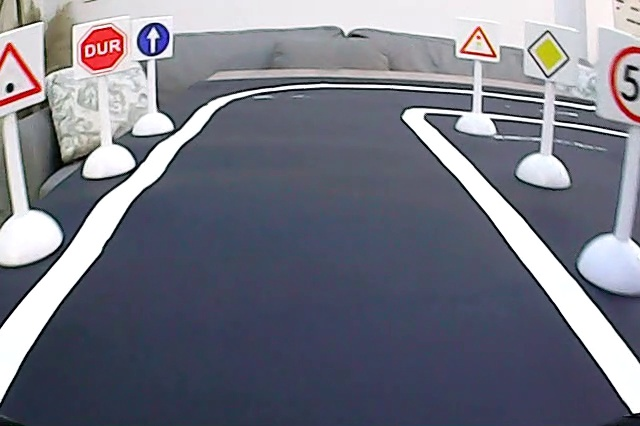green light: (1, 23, 42, 109)
red light: (458, 21, 498, 60)
stop sign: (72, 25, 132, 77)
